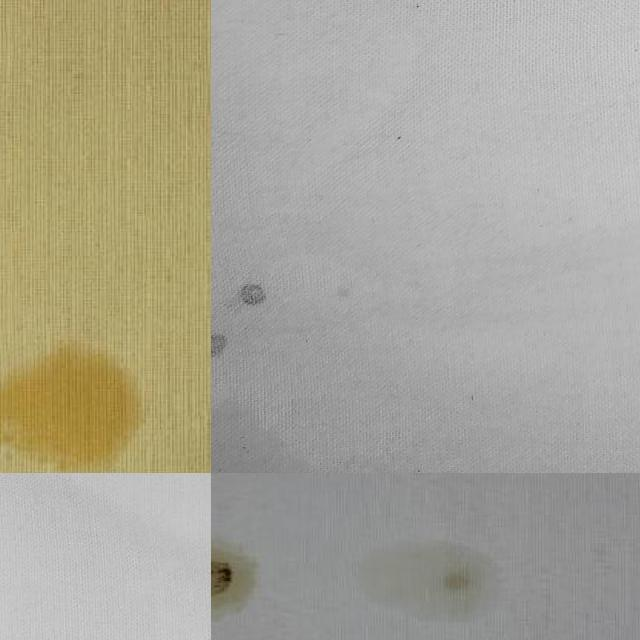Thread_other: (328, 484, 548, 640), (0, 331, 162, 473), (211, 489, 296, 640), (211, 272, 278, 373)
